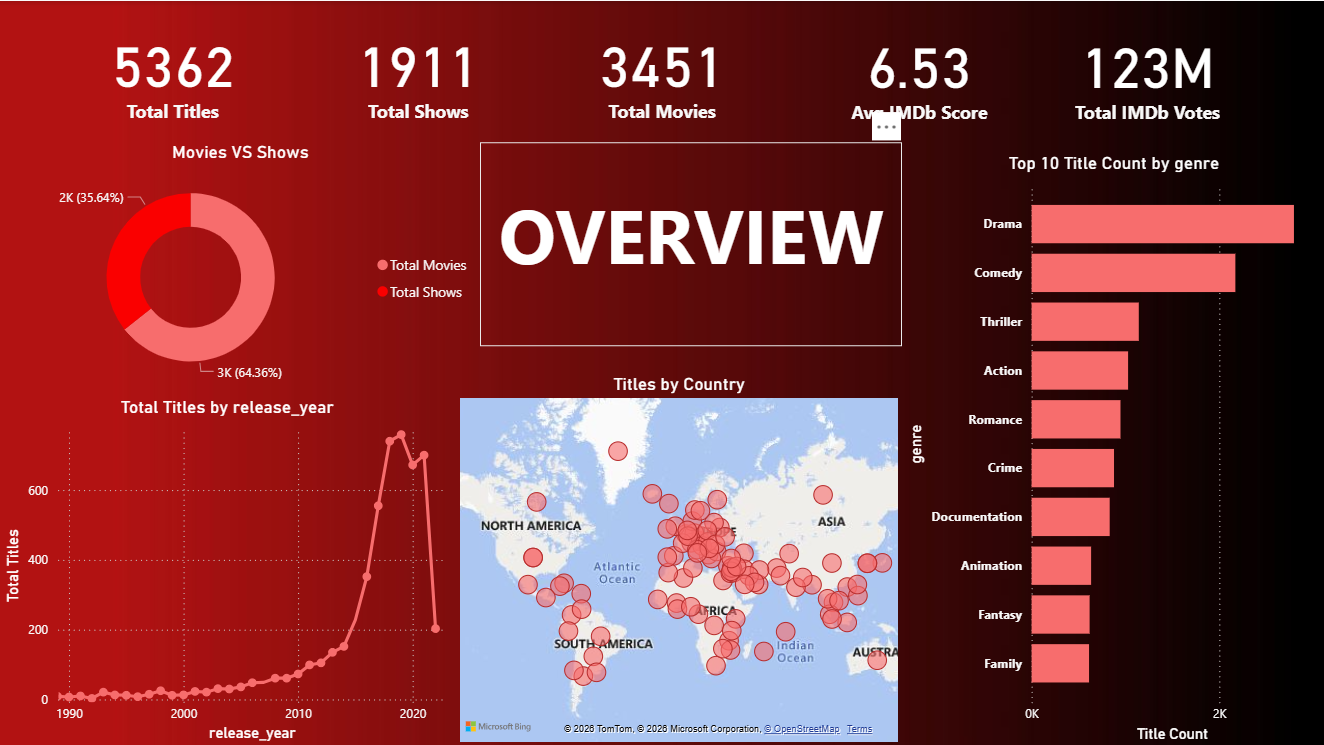

What the dashboard file says about the page in this screenshot:
{"tool":"powerbi","page":{"name":"Page 1","canvas":[1280,720],"ordinal":0},"visuals":[{"type":"lineChart","fields":{"Category":["Title.release_year"],"Y":["Title.Total Titles"]},"box":[0,381.4,438.6,338.6],"z":0},{"type":"barChart","title":"Top 10 Title Count by genre","fields":{"Category":["TitleGenres.genre"],"Y":["Title.Title Count"]},"box":[871.4,145.7,408.6,574.3],"z":1000},{"type":"donutChart","title":"Movies VS Shows","fields":{"Y":["Title.Total Movies","Title.Total Shows"]},"box":[0,135.7,464.3,244.3],"z":2000},{"type":"map","title":"Titles by Country","fields":{"Category":["TitleCountries.country"],"Size":["Title.Titles by Country"]},"box":[438.6,360,432.9,360],"z":3000},{"type":"card","fields":{"Values":["Title.Total Titles"]},"box":[53.8,0,225,136.2],"z":4000},{"type":"card","fields":{"Values":["Title.Total Movies"]},"box":[522.5,0,233.8,136.2],"z":5000},{"type":"card","fields":{"Values":["Title.Total Shows"]},"box":[292.5,0,223.8,136.2],"z":6000},{"type":"card","fields":{"Values":["Title.Total IMDb Votes"]},"box":[998.8,1.2,217.5,136.2],"z":7000},{"type":"card","fields":{"Values":["Title.Avg IMDb Score"]},"box":[777.5,1.2,221.2,136.2],"z":8000},{"type":"textbox","box":[463.8,136.2,407.5,196.2],"z":9000}]}

Visuals, with their boxes in screenshot pixels (x1, y1, x2, y2), scaled from the page's 1280x720 canvas onto the 1324x745 screenshot:
lineChart - Title.release_year x Title.Total Titles: pyautogui.locateOnScreen(0, 395, 454, 744)
"Top 10 Title Count by genre" barChart: pyautogui.locateOnScreen(901, 151, 1323, 744)
"Movies VS Shows" donutChart: pyautogui.locateOnScreen(0, 140, 480, 393)
"Titles by Country" map: pyautogui.locateOnScreen(454, 373, 901, 744)
card - Title.Total Titles: pyautogui.locateOnScreen(56, 0, 288, 141)
card - Title.Total Movies: pyautogui.locateOnScreen(540, 0, 782, 141)
card - Title.Total Shows: pyautogui.locateOnScreen(303, 0, 534, 141)
card - Title.Total IMDb Votes: pyautogui.locateOnScreen(1033, 1, 1258, 142)
card - Title.Avg IMDb Score: pyautogui.locateOnScreen(804, 1, 1033, 142)
textbox: pyautogui.locateOnScreen(480, 141, 901, 344)
